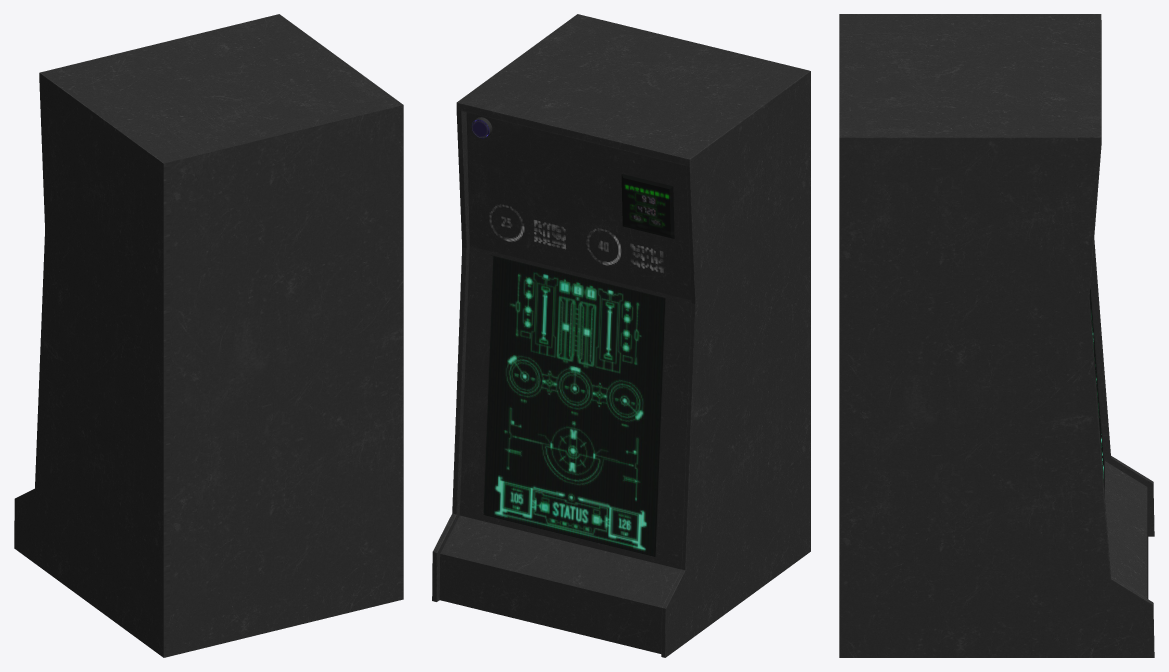
Rendered from FUT0410001.fbx.
3 renders of one model, left to right at view 1: azimuth 30°, elevation 25°; view 2: azimuth 150°, elevation 25°; view 3: azimuth 270°, elevation 25°, orthographic. The views are drawn at different scales.
Visible parts, largest first — view 1: smFUT0410001; view 2: smFUT0410001; view 3: smFUT0410001.
Boxes of the visible parts, left/top/right/bottom form: smFUT0410001: left=14, top=14, right=403, bottom=657; smFUT0410001: left=432, top=14, right=810, bottom=657; smFUT0410001: left=839, top=14, right=1154, bottom=657.
Size of the model in its own units: 110 by 216 by 118.
1 material, 1 textured.
